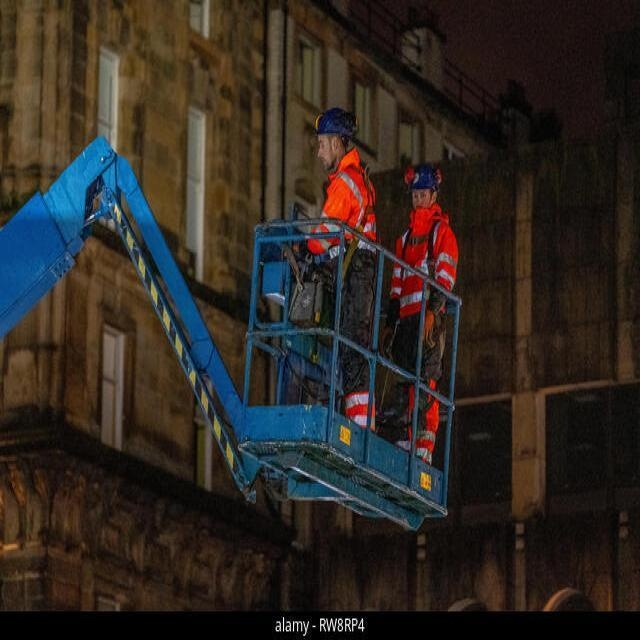Arnes_seguridad: (398, 216, 453, 328), (328, 160, 374, 288)
